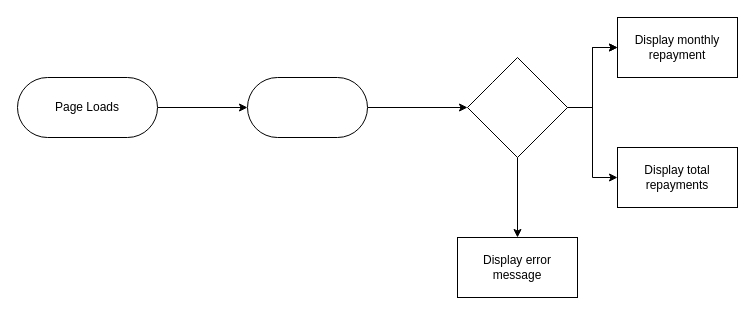
Image size: 755x315. Some labels were removed from this diagram. Each missing label, with the centre of its shape:
"Are all fields complete?" belongs at (517,107).
"User inputs mortgage information" belongs at (307,107).
